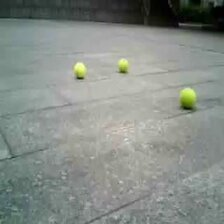tennis: (179, 88, 195, 107), (72, 62, 86, 77), (117, 57, 128, 70)
